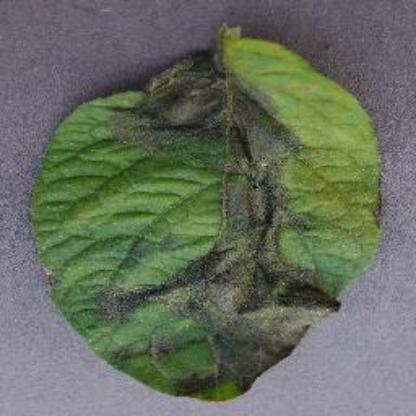Late-Blight: (27, 22, 390, 402)
